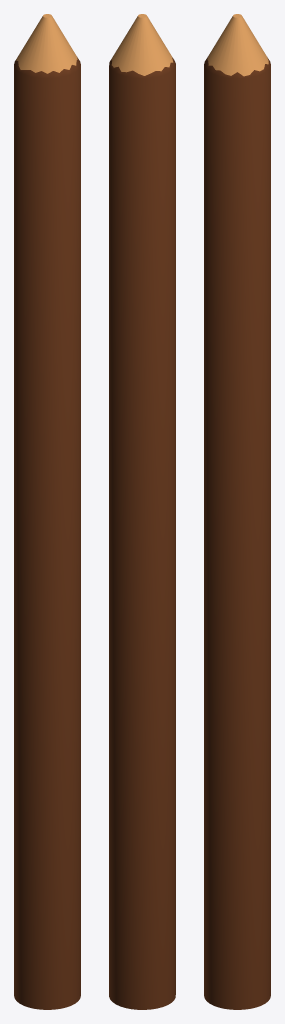
The model's file is SM_LogSharp.fbx.
3 renders of one model, left to right at view 1: azimuth 90°, elevation 25°; view 2: azimuth 150°, elevation 25°; view 3: azimuth 270°, elevation 25°, orthographic.
Parts seen in each view (by area): view 1: Cylinder; view 2: Cylinder; view 3: Cylinder.
Part boxes in pixels (x1,y1,x2,y2): Cylinder: (14, 14, 80, 1009); Cylinder: (109, 14, 175, 1009); Cylinder: (204, 14, 270, 1009).
Size of the model in its own units: 19.78 by 320 by 19.78.
